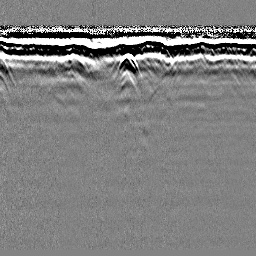cavity: (116, 50, 141, 75)
